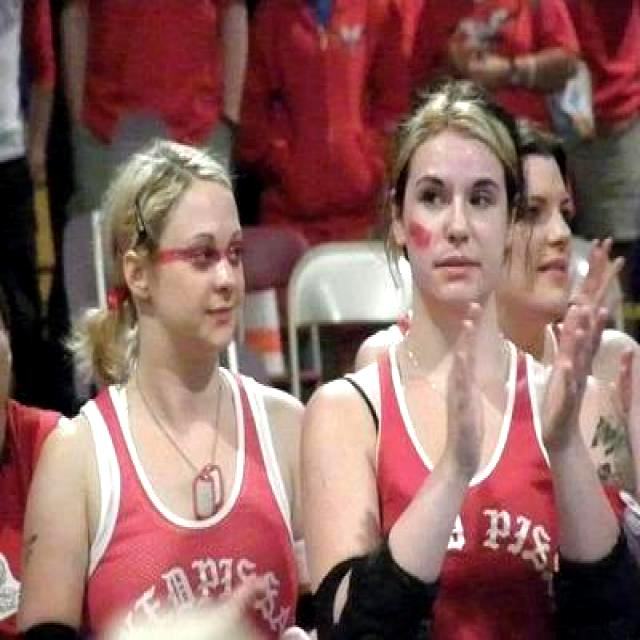no_head_wear: (67, 139, 232, 382), (390, 81, 522, 213)
person: (302, 83, 614, 638), (18, 141, 301, 638)
